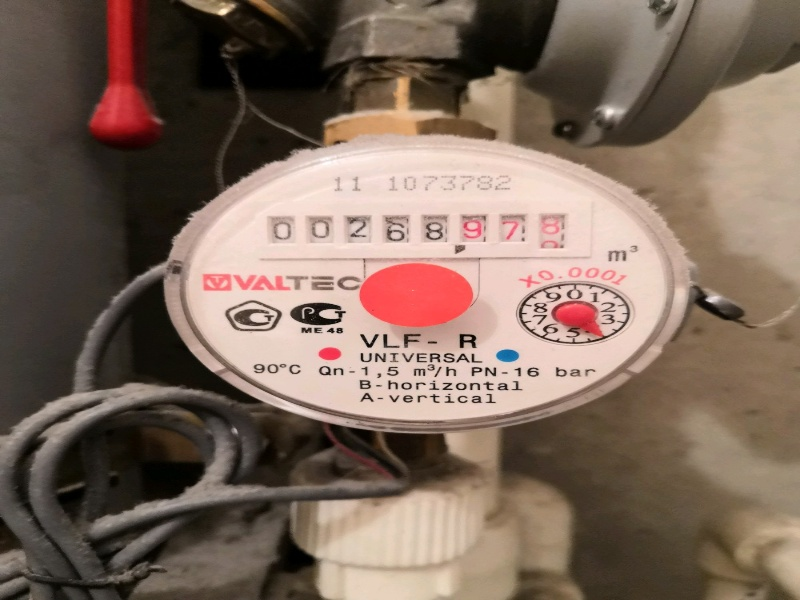dial: (259, 201, 577, 253)
